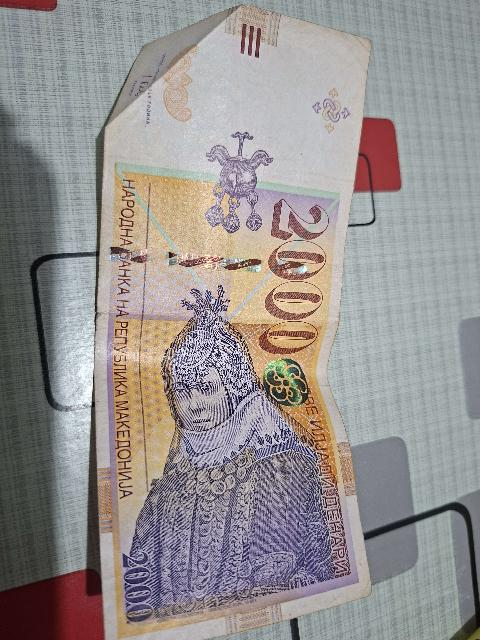note: (96, 6, 369, 638)
